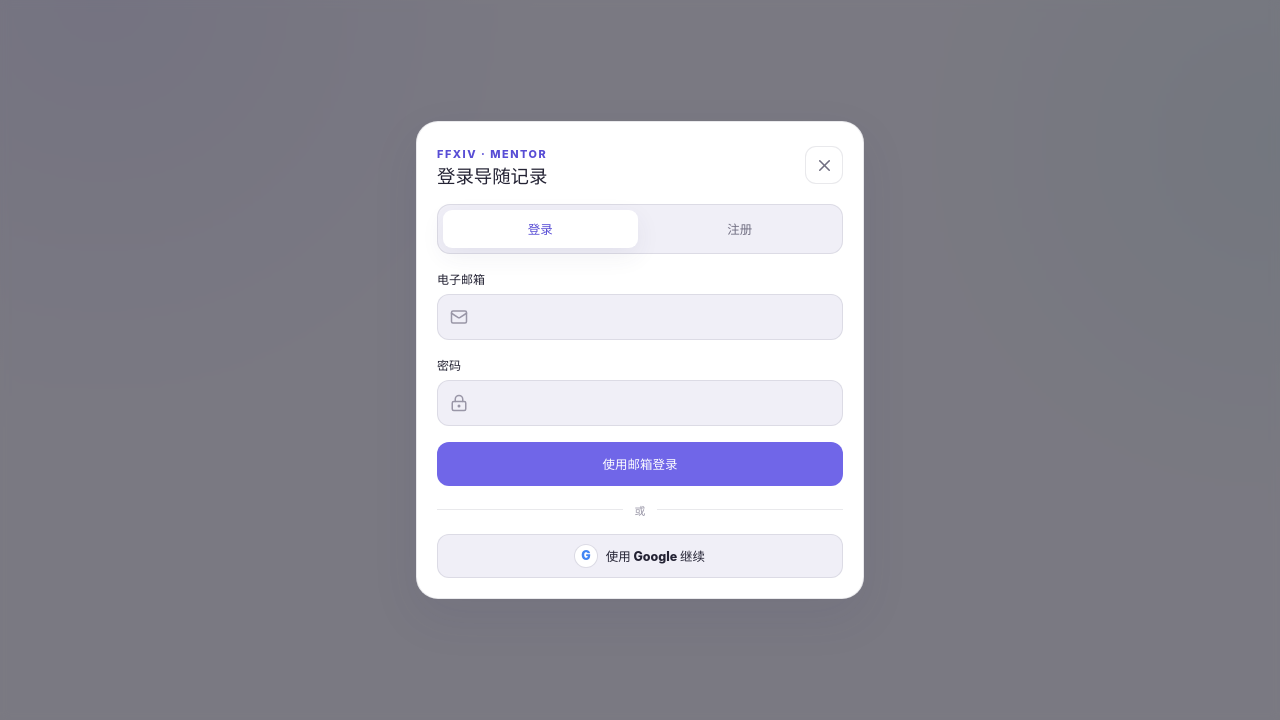
Scenario: AuthDialog › keeps the dialog open and shows a useful credential error
Type "mentor@example.com" into the field labelled "电子邮箱". click: (640, 317)
box: [437, 294, 843, 340]
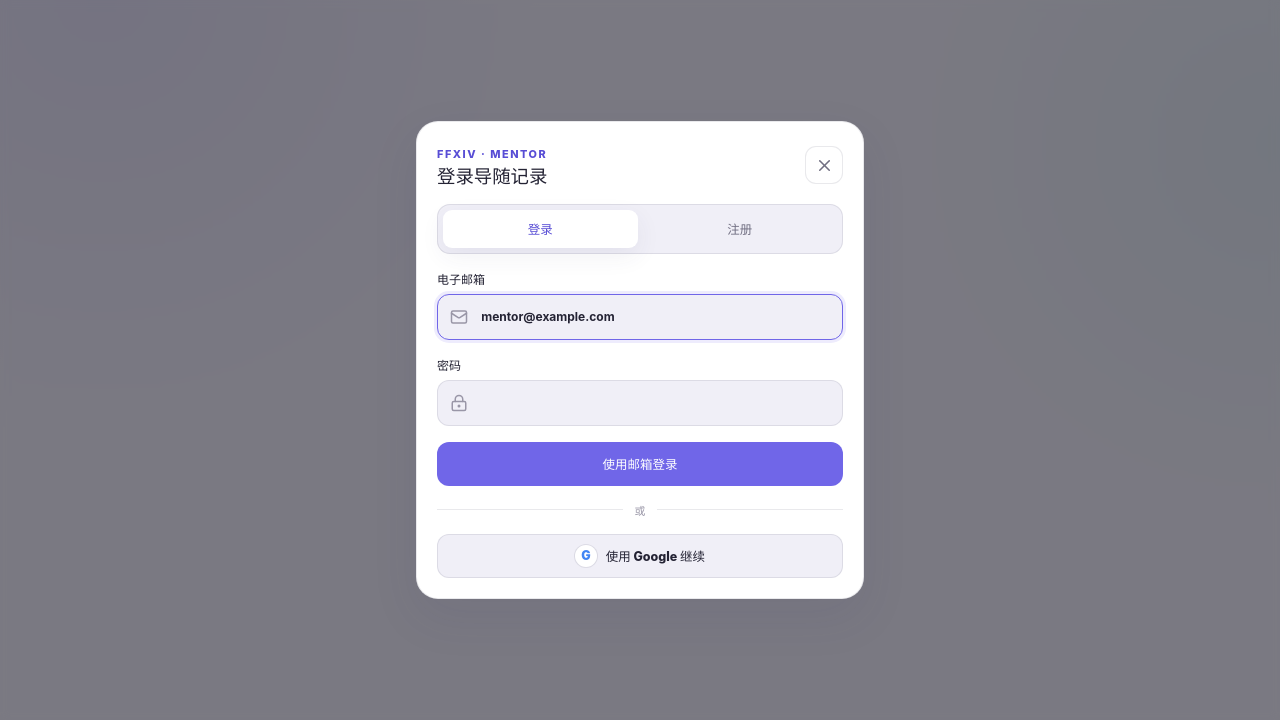
Type "wrong12" into the password field labelled "密码". click: (640, 402)
box: [437, 380, 843, 426]
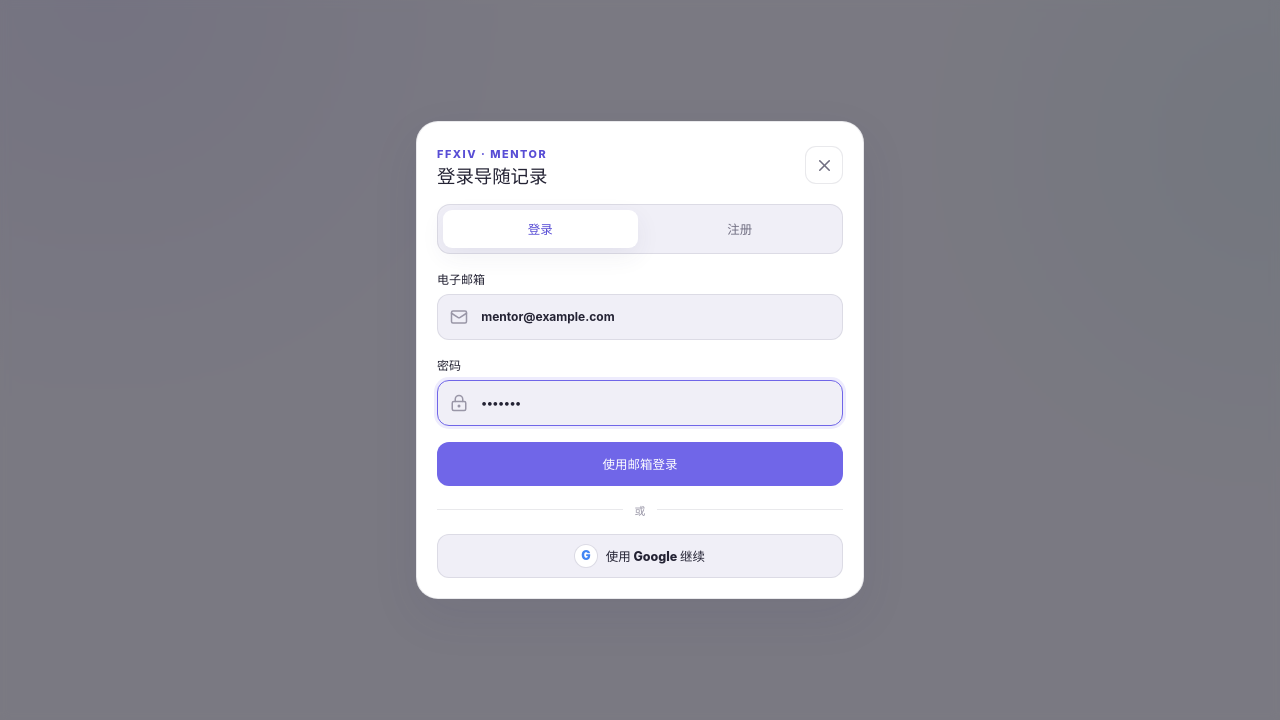
Click the button "使用邮箱登录". click: click(640, 464)
box: [437, 442, 843, 486]
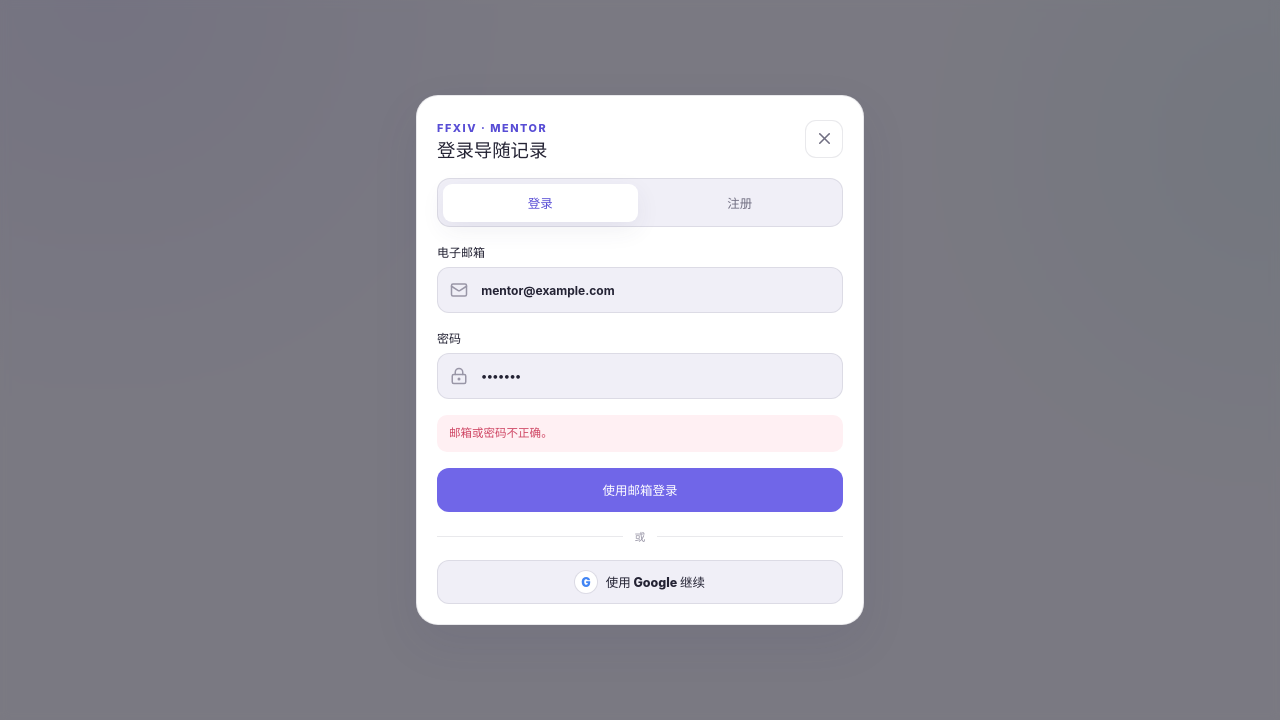
Expected: the message reads "邮箱或密码不正确。", [449, 426, 553, 440]
